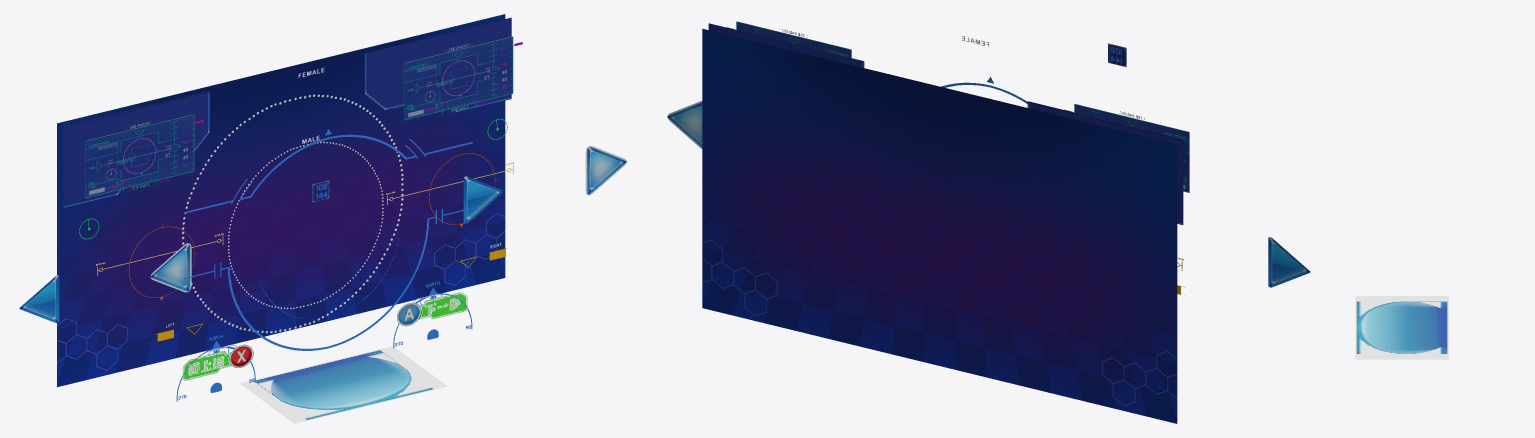
File: Stage background_001.FBX
3 renders of one model, left to right at view 1: azimuth 30°, elevation 25°; view 2: azimuth 150°, elevation 25°; view 3: azimuth 270°, elevation 25°, orthographic. The views are drawn at different scales.
Parts seen in each view (by area): view 1: tr_mo_mu_bkground001, tr_mo_mu_frame (×2), tr_mo_mu_bkground005, tr_mo_mu_bkground004, tr_mo_mu_bkground002, tr_mo_mu_bkground003, tr_mo_mu_button_x, tr_mo_mu_button_a001, tr_mo_mu_arrow_r002, tr_mo_mu_arrow_l01, tr_mo_mu_arrow_l002, tr_mo_mu_arrow_r01 (+1 smaller); view 2: tr_mo_mu_bkground001, tr_mo_mu_bkground002, tr_mo_mu_bkground004, tr_mo_mu_arrow_l002, tr_mo_mu_bkground003, tr_mo_mu_bkground005, tr_mo_mu_arrow_r002; view 3: tr_mo_mu_frame.
Boxes of the visible parts, bbox=[...] form: tr_mo_mu_bkground001: bbox=[57, 14, 505, 387]; tr_mo_mu_frame (×2): bbox=[184, 129, 472, 423]; tr_mo_mu_bkground005: bbox=[404, 36, 522, 120]; tr_mo_mu_bkground004: bbox=[85, 114, 203, 198]; tr_mo_mu_bkground002: bbox=[63, 91, 210, 208]; tr_mo_mu_bkground003: bbox=[364, 17, 511, 112]; tr_mo_mu_button_x: bbox=[176, 334, 255, 401]; tr_mo_mu_button_a001: bbox=[393, 281, 472, 348]; tr_mo_mu_arrow_r002: bbox=[585, 146, 626, 195]; tr_mo_mu_arrow_l01: bbox=[150, 243, 191, 292]; tr_mo_mu_arrow_l002: bbox=[19, 275, 59, 322]; tr_mo_mu_arrow_r01: bbox=[463, 176, 503, 223]; tr_mo_mu_bkground001: bbox=[702, 28, 1177, 423]; tr_mo_mu_bkground002: bbox=[1027, 101, 1183, 224]; tr_mo_mu_bkground004: bbox=[1064, 104, 1189, 192]; tr_mo_mu_arrow_l002: bbox=[1268, 237, 1310, 287]; tr_mo_mu_bkground003: bbox=[708, 23, 864, 67]; tr_mo_mu_bkground005: bbox=[726, 21, 851, 57]; tr_mo_mu_arrow_r002: bbox=[667, 101, 702, 148]; tr_mo_mu_frame: bbox=[1355, 296, 1448, 359].
Bounding box in the file's own units: 245 × 111 × 71.22.
